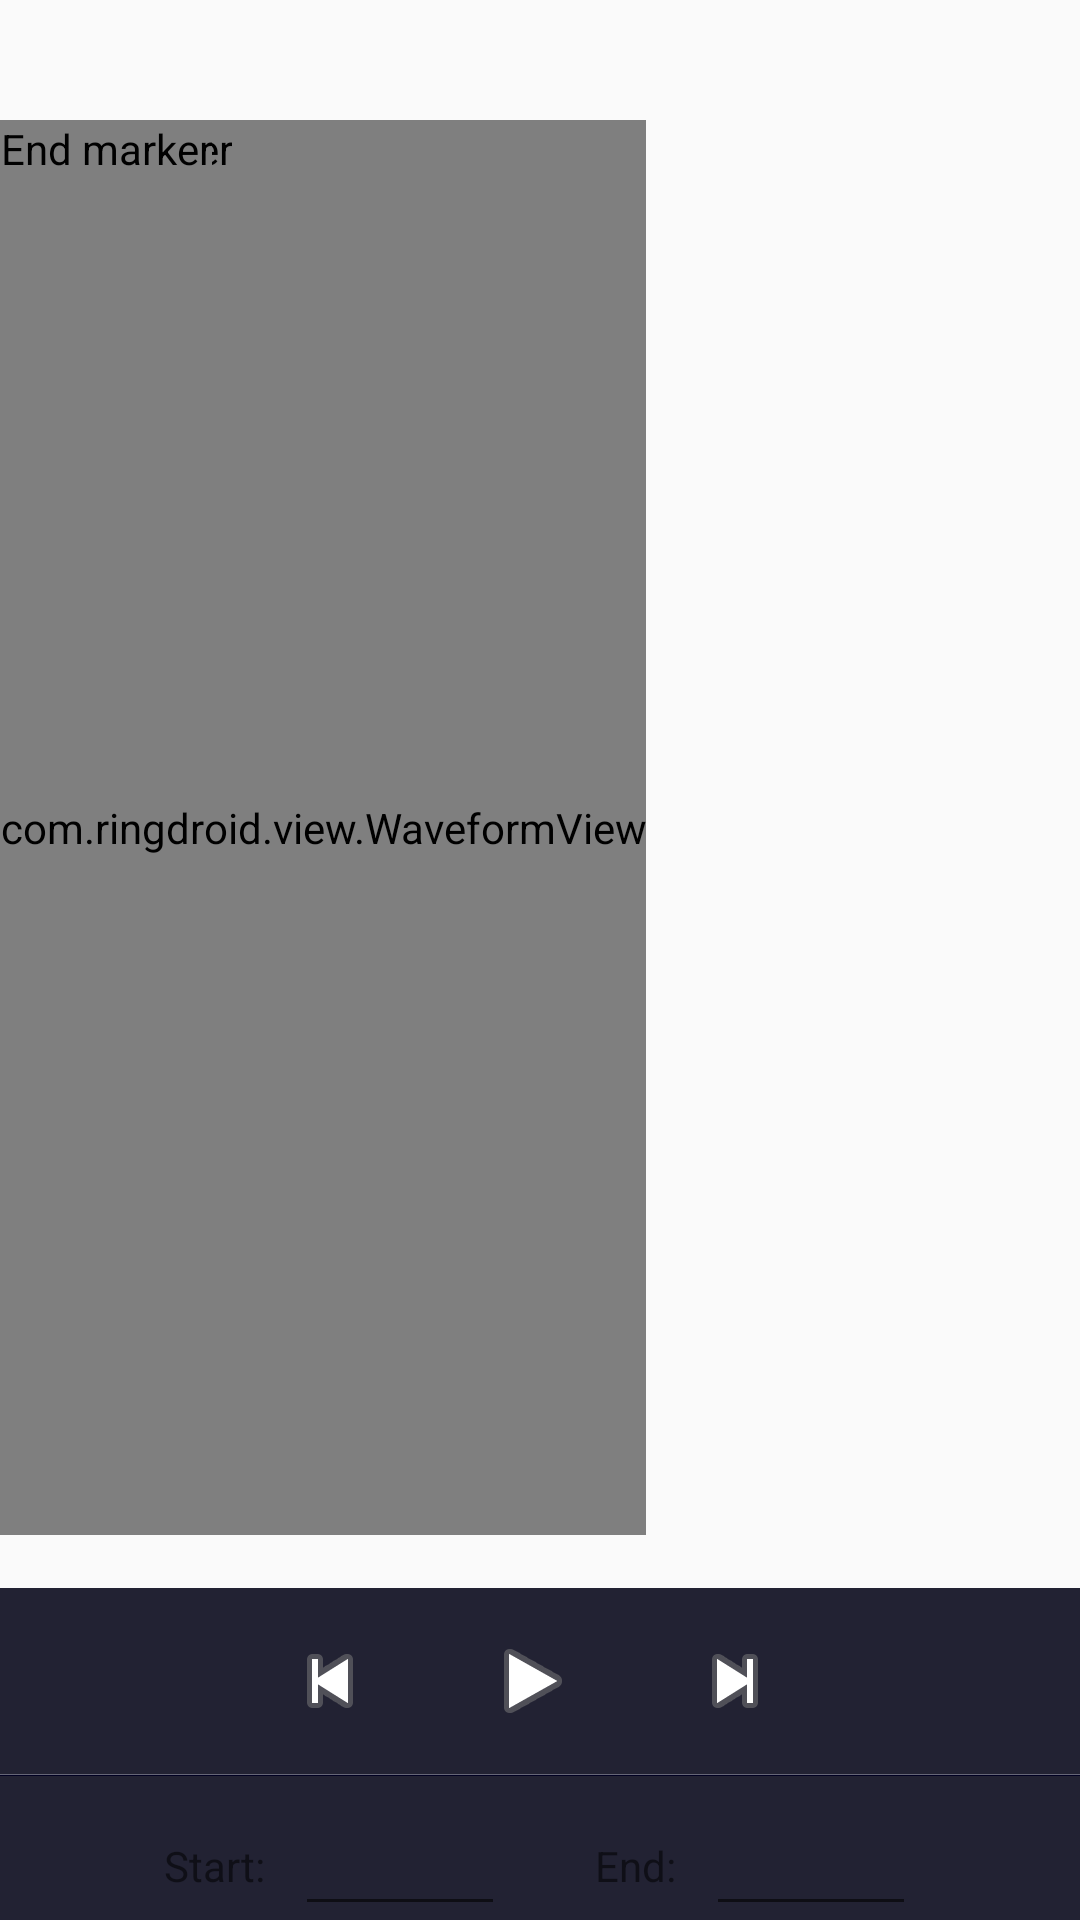

Screen size 1080×1920. Icon name, then its center in pixels as [x,y]:
Fast forward: [735,1681]
Play: [533,1681]
Rewind: [330,1681]
